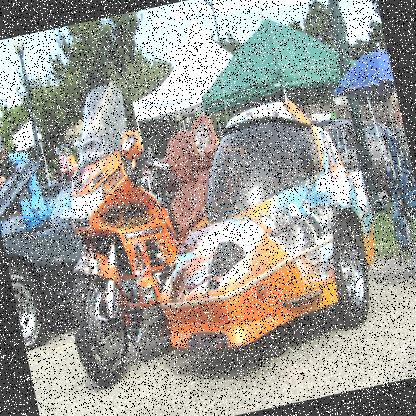Car: (0, 151, 105, 351), (322, 110, 408, 208)
